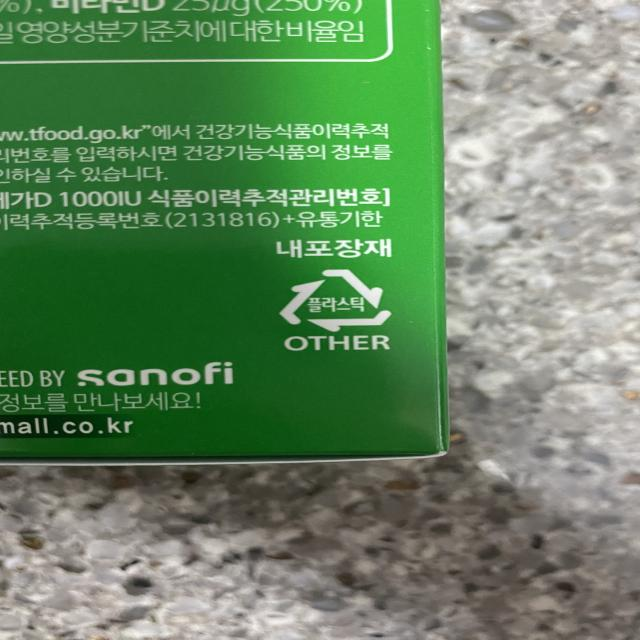Plastic: (272, 265, 396, 335)
